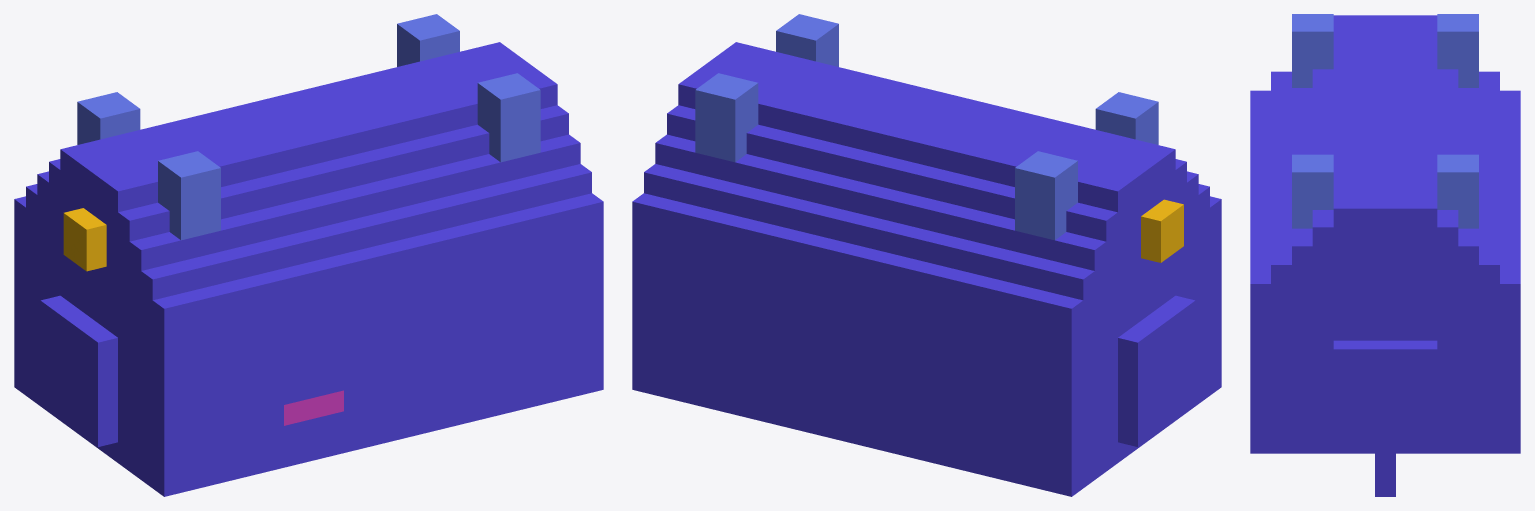
File: bag.glb
3 renders of one model, left to right at view 1: azimuth 30°, elevation 25°; view 2: azimuth 150°, elevation 25°; view 3: azimuth 270°, elevation 25°, orthographic. The views are drawn at different scales.
Visible parts, largest first — view 1: base, side, mouth; view 2: base, side; view 3: base, glasses.
Boxes of the visible parts, bbox=[...] form: base: bbox=[14, 14, 603, 496]; side: bbox=[63, 208, 106, 271]; mouth: bbox=[284, 390, 343, 425]; base: bbox=[632, 14, 1221, 496]; side: bbox=[1141, 199, 1183, 262]; base: bbox=[1250, 14, 1520, 453]; glasses: bbox=[1375, 453, 1395, 496].
Size of the model in its own units: 24 by 17 by 13.
Materials: 11 (11 with a texture image).
